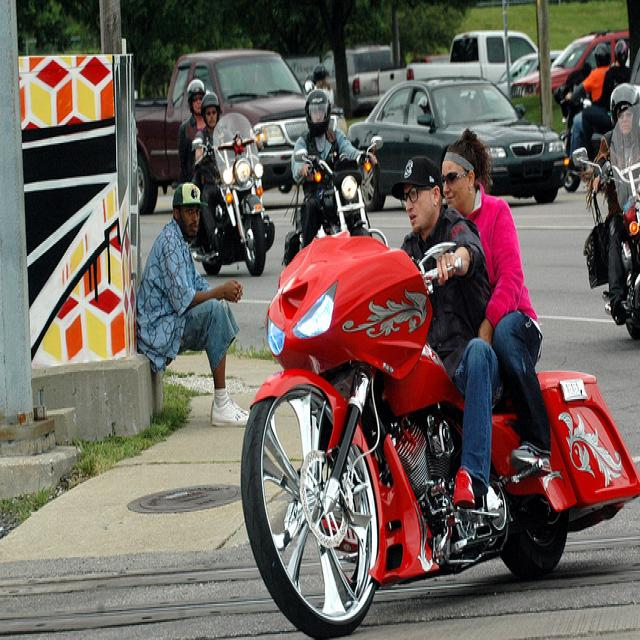motor: (242, 232, 640, 638), (569, 102, 640, 345), (190, 110, 278, 279), (282, 135, 389, 267), (560, 98, 603, 192)
